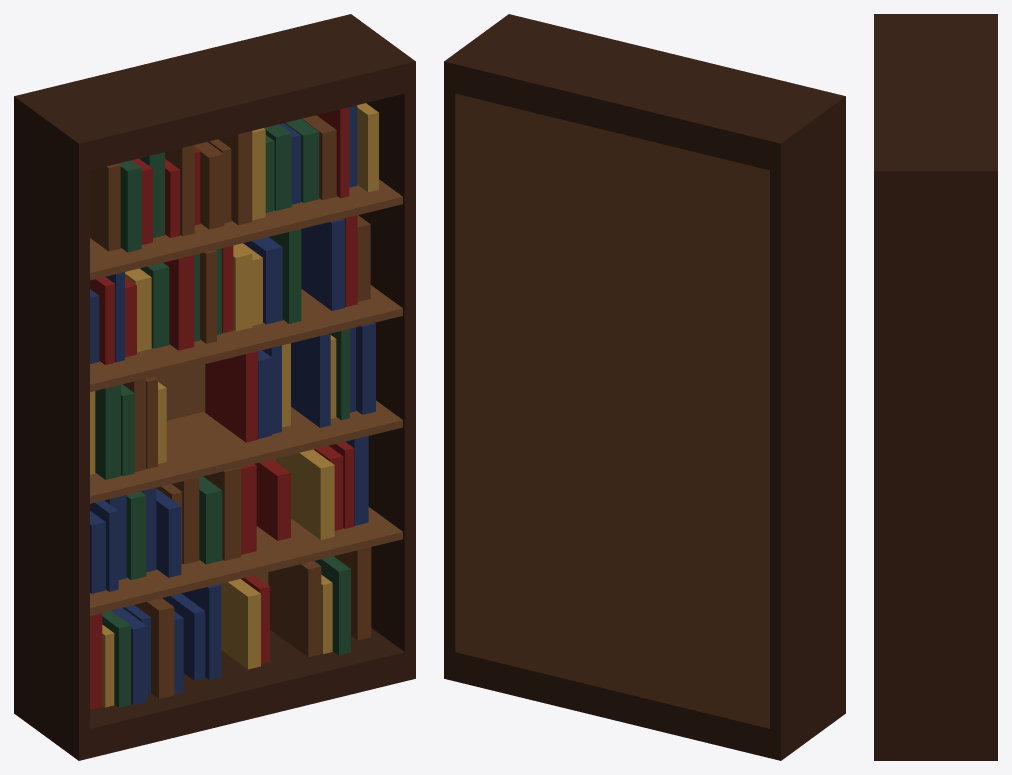
File: estante_livros.obj
3 views of the same model, side by side, from view 1: azimuth 30°, elevation 25°; view 2: azimuth 150°, elevation 25°; view 3: azimuth 270°, elevation 25° (orthographic). The views are drawn at different scales.
Parts seen in each view (by area): view 1: parte_00_madeira_escura, parte_03_madeira_escura, parte_01_madeira_escura, parte_02_madeira_escura, parte_06_madeira, parte_05_madeira, parte_07_madeira, parte_08_madeira, parte_21_livro_marrom, parte_49_livro_vermelho, parte_38_livro_ocre, parte_74_livro_azul (+72 smaller); view 2: parte_04_madeira, parte_00_madeira_escura, parte_03_madeira_escura, parte_02_madeira_escura, parte_01_madeira_escura; view 3: parte_01_madeira_escura, parte_03_madeira_escura.
Boxes of the visible parts, x1,y1,x2,y2 form: parte_00_madeira_escura: [14, 126, 89, 760]; parte_03_madeira_escura: [14, 14, 415, 172]; parte_01_madeira_escura: [358, 91, 415, 680]; parte_02_madeira_escura: [14, 628, 415, 760]; parte_06_madeira: [90, 400, 402, 503]; parte_05_madeira: [90, 507, 402, 615]; parte_07_madeira: [90, 285, 402, 391]; parte_08_madeira: [90, 179, 402, 280]; parte_21_livro_marrom: [268, 561, 321, 657]; parte_49_livro_vermelho: [205, 351, 257, 442]; parte_38_livro_ocre: [276, 449, 334, 539]; parte_74_livro_azul: [301, 219, 344, 310]; parte_04_madeira: [455, 93, 769, 728]; parte_00_madeira_escura: [770, 126, 845, 760]; parte_03_madeira_escura: [444, 14, 845, 172]; parte_02_madeira_escura: [444, 650, 845, 760]; parte_01_madeira_escura: [444, 91, 455, 681]; parte_01_madeira_escura: [874, 199, 997, 760]; parte_03_madeira_escura: [874, 14, 997, 199].
Bounding box in the file's own units: 1.2 × 2.1 × 0.4.
